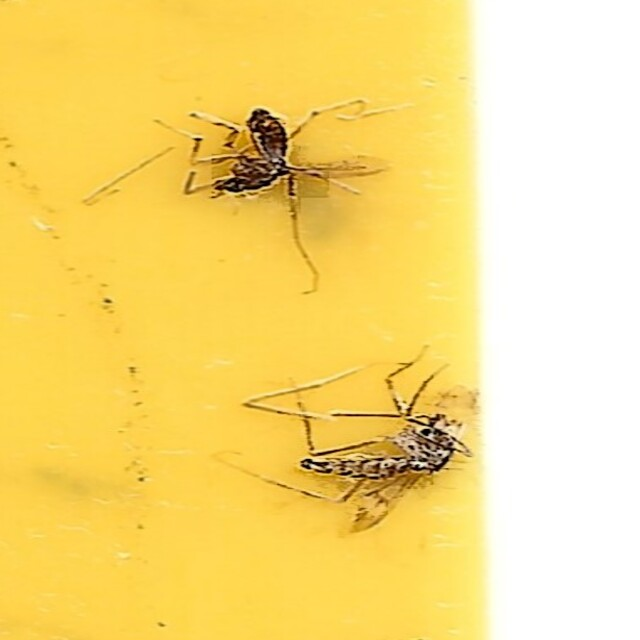Nematocera: (168, 104, 388, 216), (286, 409, 472, 536)
